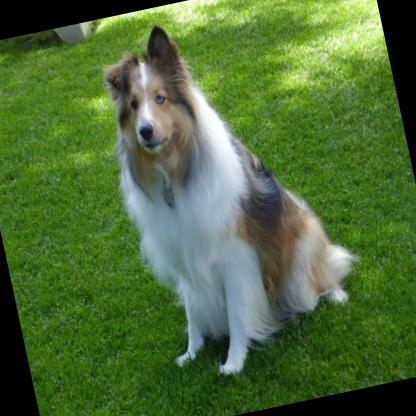collie: (84, 0, 376, 390)
